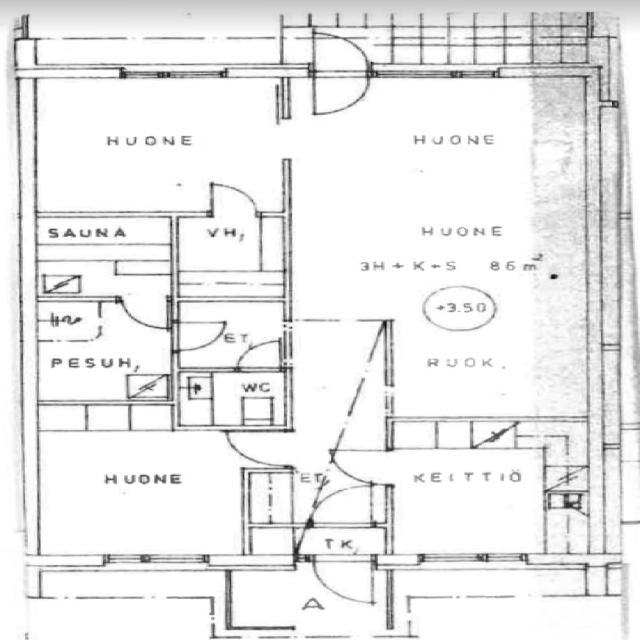door: (307, 32, 376, 118), (310, 554, 380, 606), (309, 482, 380, 528), (221, 428, 293, 470), (326, 444, 392, 486), (167, 317, 231, 355), (202, 180, 263, 218), (116, 294, 176, 332), (234, 336, 286, 374)
window: (95, 550, 218, 575), (411, 550, 515, 570), (373, 66, 502, 82), (134, 65, 235, 83), (40, 66, 123, 84), (118, 66, 164, 82)
zone: (286, 70, 605, 423), (29, 407, 290, 562), (23, 75, 284, 213), (380, 421, 604, 562), (32, 300, 172, 407), (33, 214, 174, 300), (173, 214, 288, 298), (176, 298, 292, 365), (177, 370, 291, 431)
